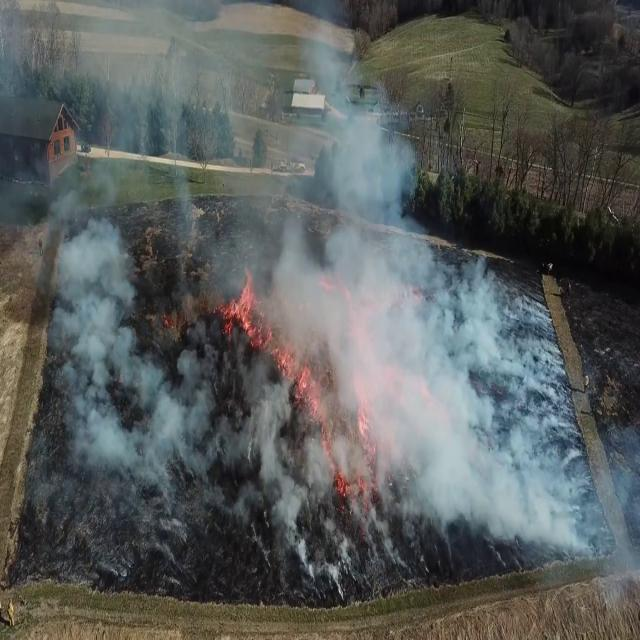Fire: (292, 346, 342, 436), (232, 268, 264, 344)
Smoke: (11, 12, 490, 584)
